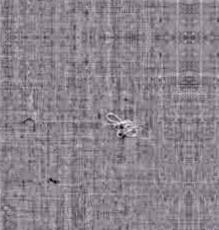snag: (102, 106, 143, 147)
